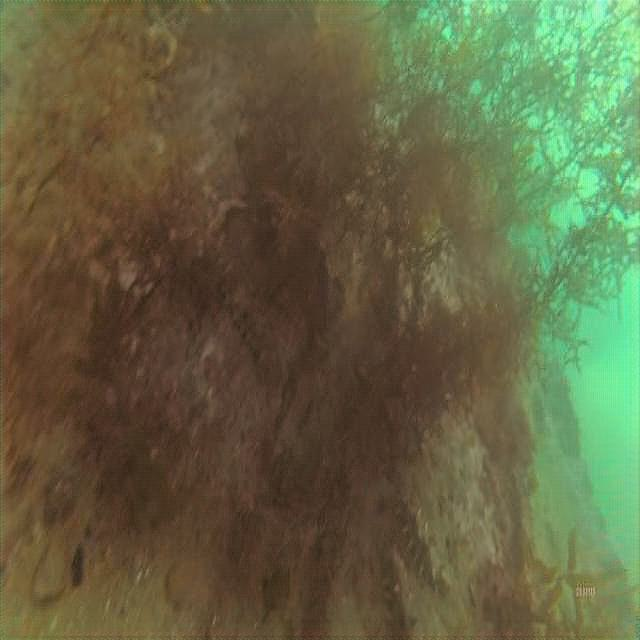holothurian: (223, 264, 284, 371), (401, 492, 457, 600), (381, 539, 419, 640)
